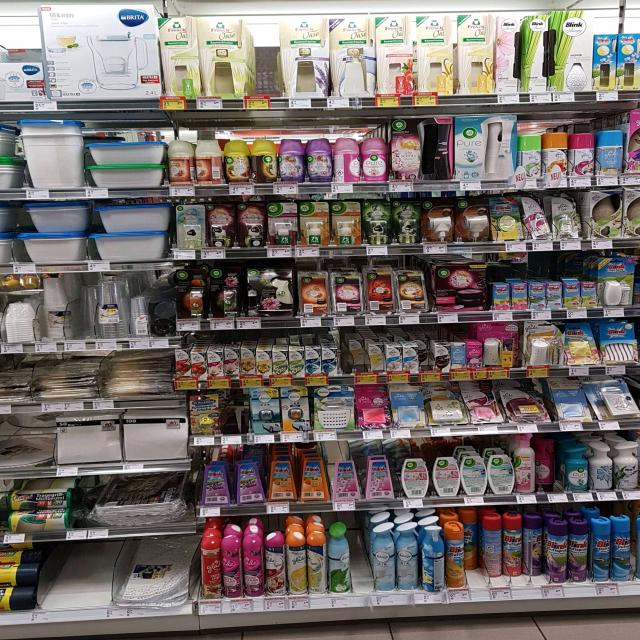empty: (35, 536, 114, 610), (252, 12, 278, 98), (350, 503, 370, 590)
